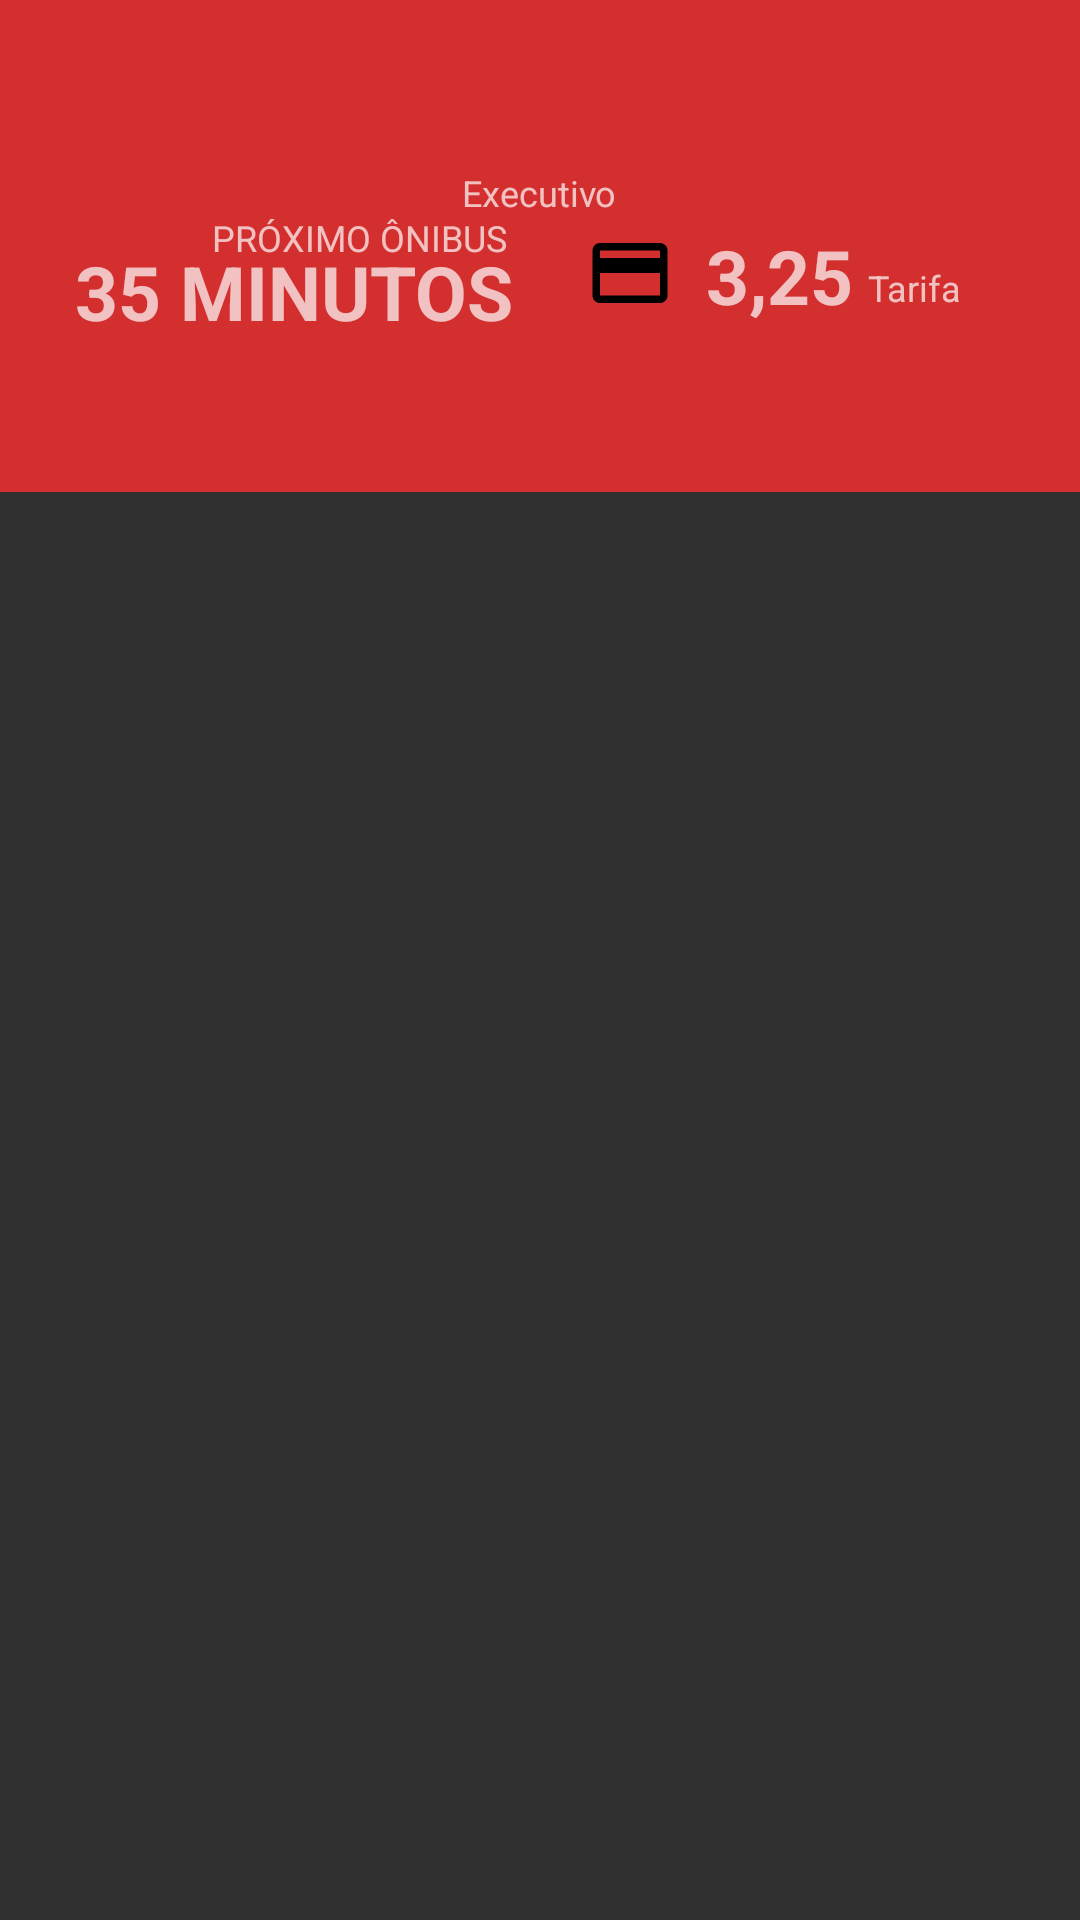

Screen size 1080px×1920px. Icon name, then its box in pixels as [left=x1, top=y1, right=x2, bottom=y2]:
cartao tarifas: [left=592, top=243, right=668, bottom=303]
